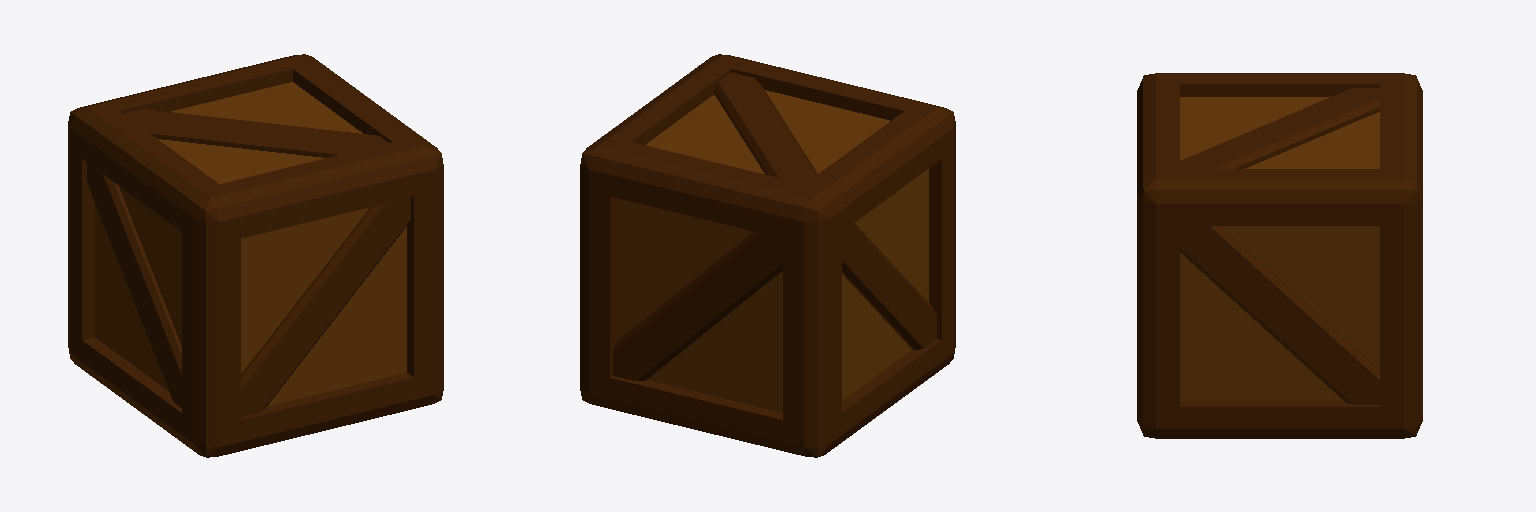
The model's file is Cube_Crate.obj.
3 renders of one model, left to right at view 1: azimuth 30°, elevation 25°; view 2: azimuth 150°, elevation 25°; view 3: azimuth 270°, elevation 25°, orthographic.
Parts seen in each view (by area): view 1: Cube_Crate_Cube.038; view 2: Cube_Crate_Cube.038; view 3: Cube_Crate_Cube.038.
Part boxes in pixels (x1,y1,x2,y2): Cube_Crate_Cube.038: (68,54,443,457); Cube_Crate_Cube.038: (580,54,955,457); Cube_Crate_Cube.038: (1137,73,1422,438).
Bounding box in the file's own units: 1.01 × 1.01 × 1.01.